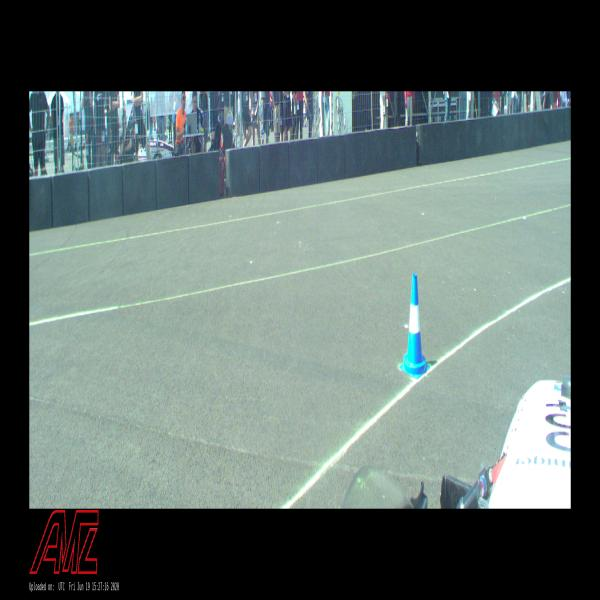blue_cone: (399, 274, 430, 379)
